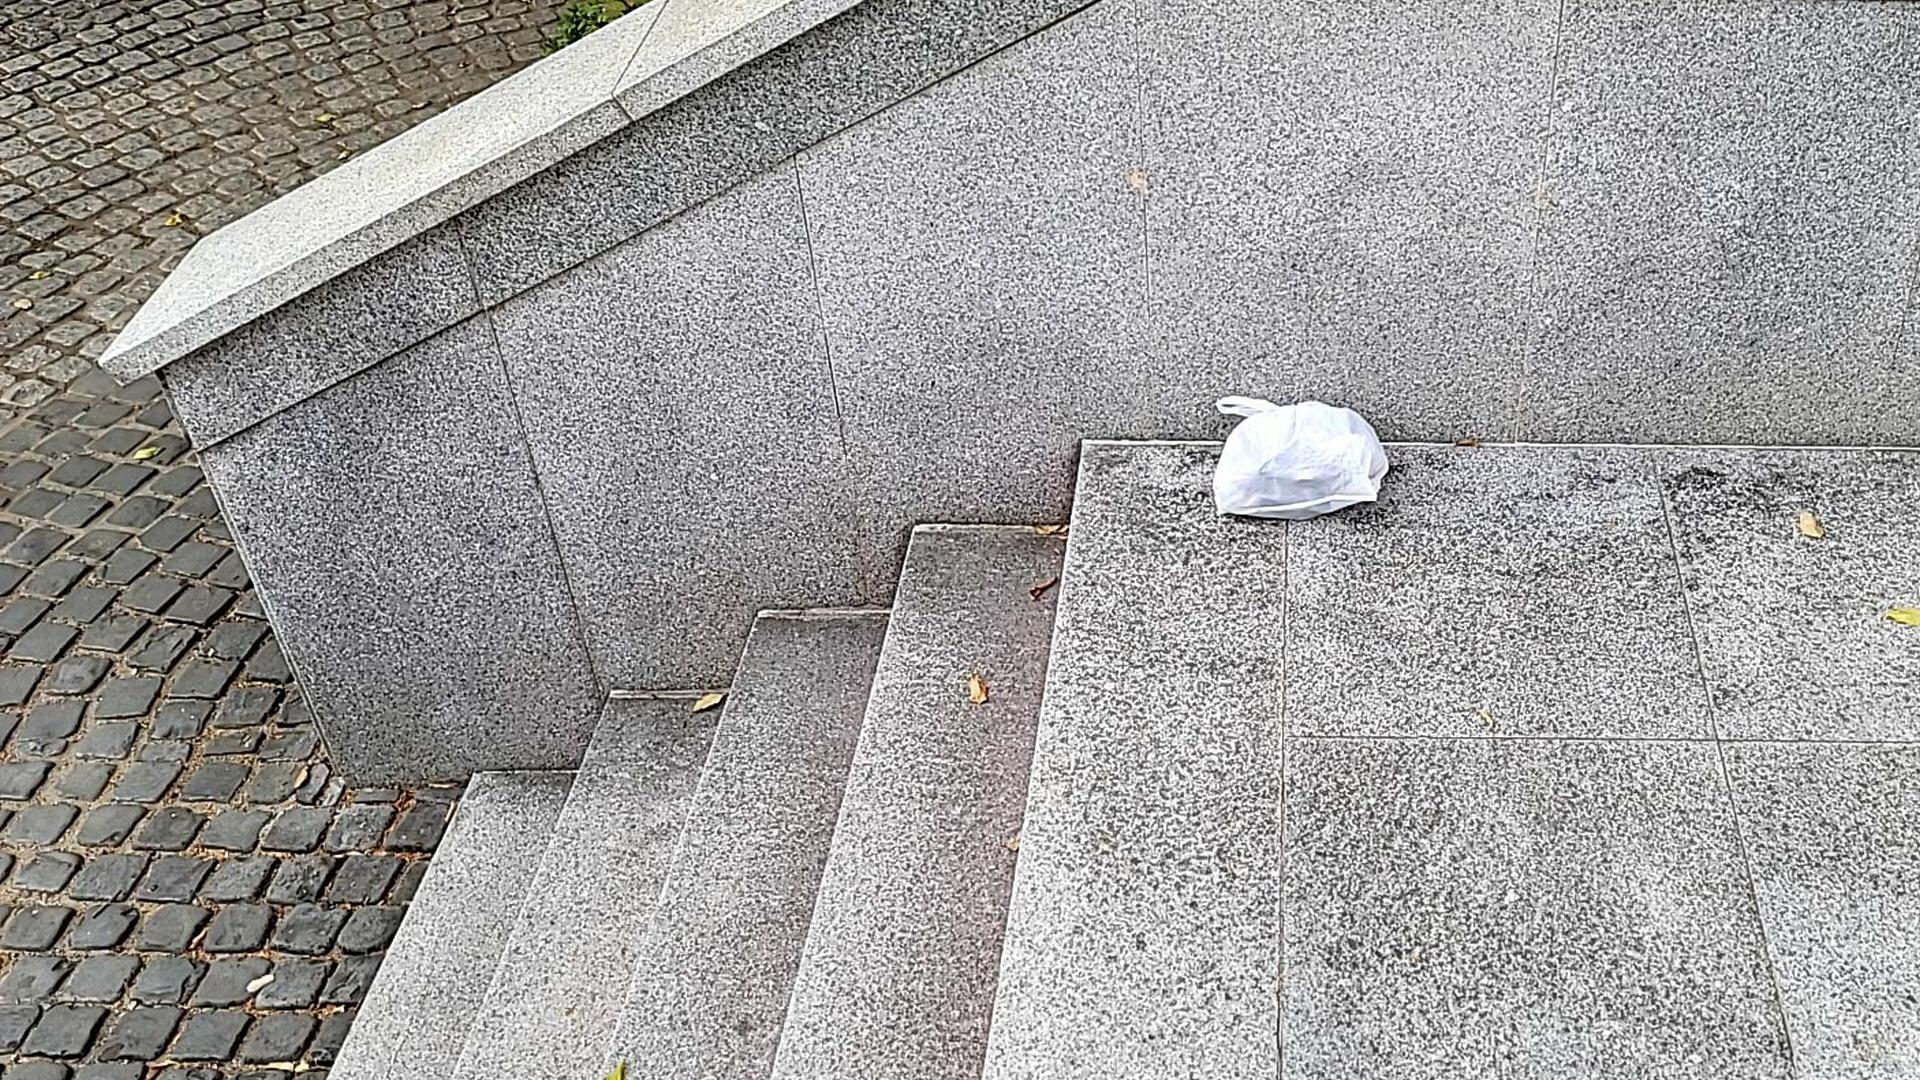white_bag: (1203, 386, 1393, 541)
